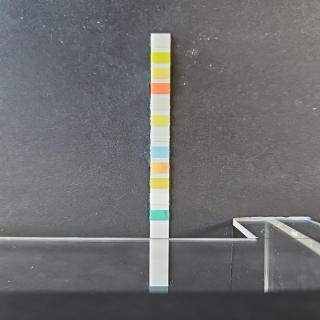mark: (152, 34, 170, 48), (150, 194, 168, 206), (151, 176, 168, 188), (153, 52, 170, 64), (152, 146, 168, 158), (152, 162, 168, 174), (152, 130, 168, 142), (152, 113, 168, 125), (152, 98, 168, 110), (152, 82, 168, 94), (152, 66, 168, 78), (151, 210, 168, 220)
